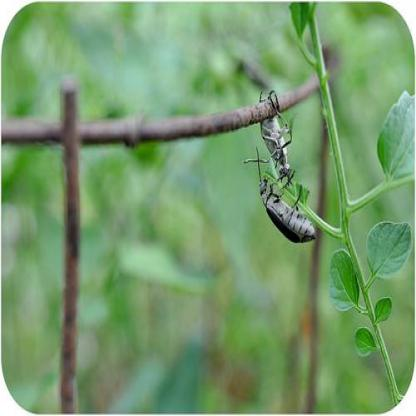beetle: (257, 173, 316, 252), (257, 86, 301, 174)
